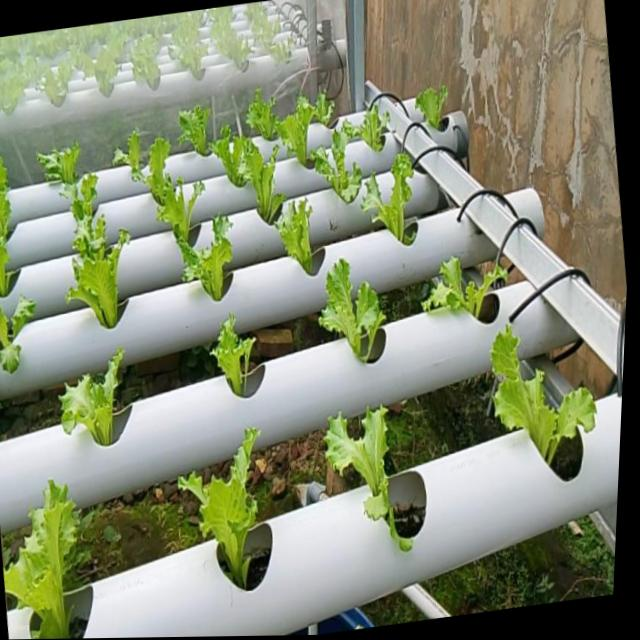Baby: (492, 333, 596, 473), (179, 435, 260, 596), (326, 413, 413, 560), (4, 487, 79, 639), (320, 263, 386, 366), (134, 159, 206, 249), (62, 353, 124, 450), (423, 258, 511, 321), (226, 138, 287, 228), (168, 99, 227, 186), (362, 156, 417, 249), (72, 247, 124, 332), (278, 93, 335, 169), (311, 125, 363, 208), (73, 195, 114, 284), (212, 318, 256, 400), (195, 220, 233, 304), (276, 202, 317, 279), (0, 298, 37, 377), (344, 101, 392, 154), (113, 130, 150, 185), (38, 143, 81, 186), (247, 90, 280, 142), (416, 86, 449, 128), (0, 164, 12, 244)
